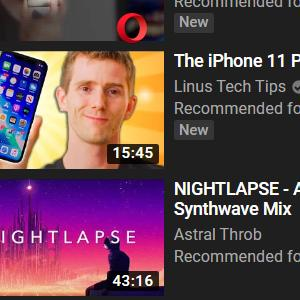opera: (116, 13, 149, 44)
